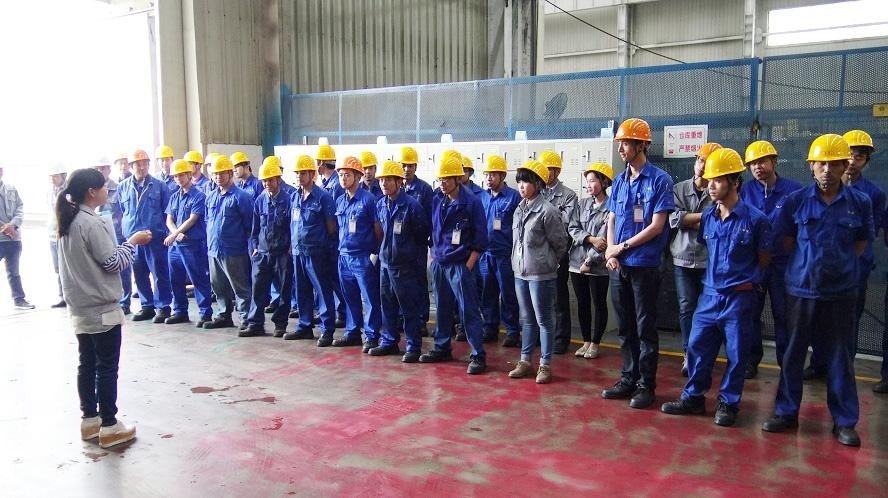none: (63, 166, 109, 212)
white: (48, 161, 68, 188)
yellow: (806, 132, 849, 187), (703, 147, 743, 201), (615, 117, 652, 164), (842, 131, 873, 177), (746, 139, 777, 181), (514, 161, 548, 199), (438, 159, 466, 197), (377, 159, 403, 197), (583, 162, 612, 194), (335, 156, 361, 191), (481, 156, 508, 188), (313, 143, 340, 175), (694, 142, 718, 177), (258, 162, 284, 194), (208, 156, 233, 188), (538, 151, 562, 184), (129, 147, 151, 181), (397, 146, 418, 180), (292, 155, 315, 186), (229, 149, 252, 179), (171, 159, 192, 189), (154, 144, 175, 174), (360, 149, 377, 181), (185, 152, 202, 179)
